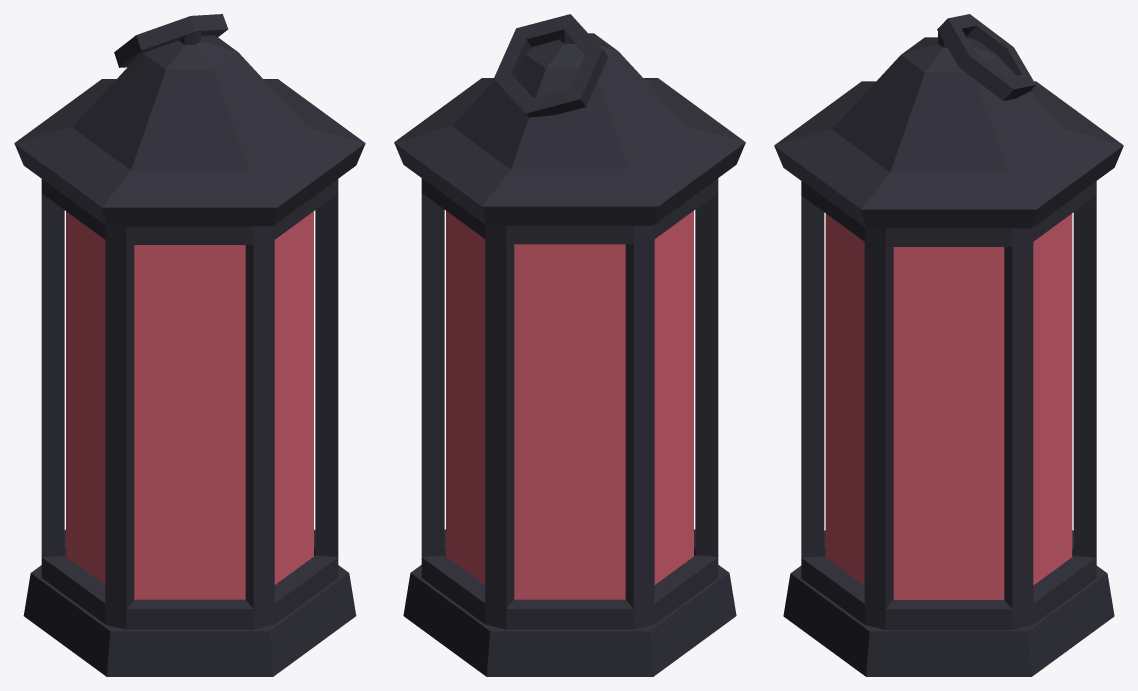
File: Lantern02.fbx
3 renders of one model, left to right at view 1: azimuth 30°, elevation 25°; view 2: azimuth 150°, elevation 25°; view 3: azimuth 270°, elevation 25°, orthographic.
Parts seen in each view (by area): view 1: Lantern; view 2: Lantern; view 3: Lantern.
Part boxes in pixels (x1,y1,x2,y2): Lantern: (14, 14, 365, 676); Lantern: (394, 14, 745, 676); Lantern: (774, 14, 1123, 676).
Bounding box in the file's own units: 20.56 × 44.77 × 23.74.
